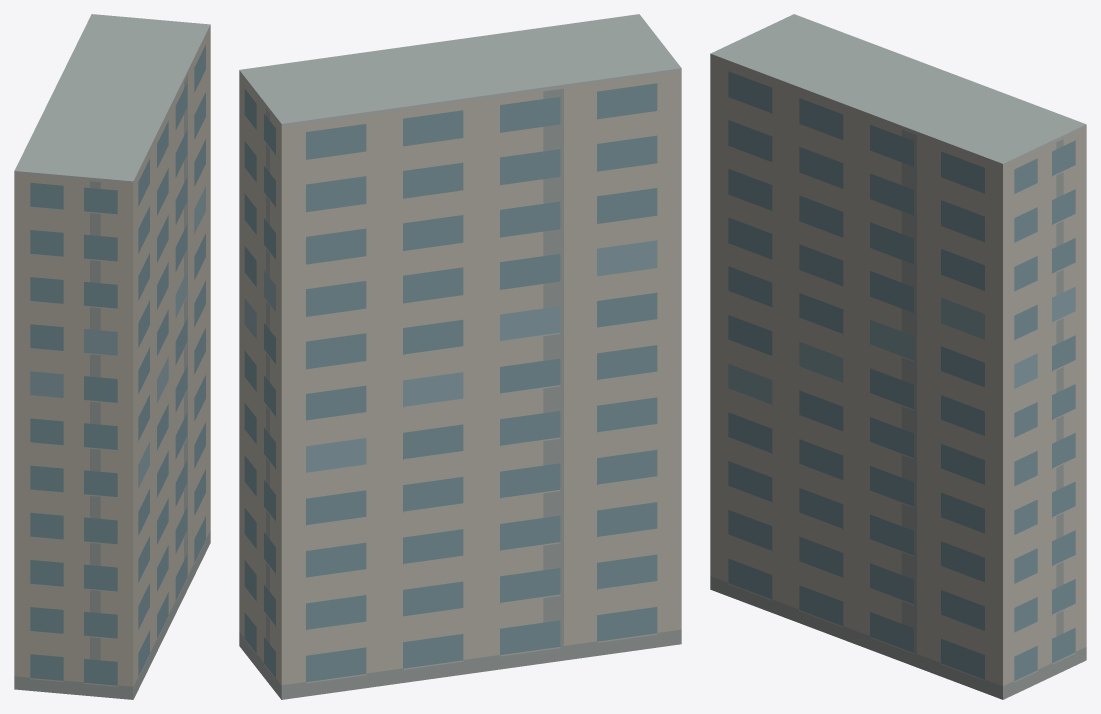
File: residential-0a81722e-b231-430f-b5d0-a304976cb5e9.glb
The picture shows the model from 3 angles, left to right: view 1: azimuth 30°, elevation 25°; view 2: azimuth 150°, elevation 25°; view 3: azimuth 270°, elevation 25°; orthographic projection. The views are drawn at different scales.
Parts seen in each view (by area): view 1: residential-0a81722e-b231-430f-b5d0-a304976cb5e9.tmp; view 2: residential-0a81722e-b231-430f-b5d0-a304976cb5e9.tmp; view 3: residential-0a81722e-b231-430f-b5d0-a304976cb5e9.tmp.
Part boxes in pixels (x1,y1,x2,y2): residential-0a81722e-b231-430f-b5d0-a304976cb5e9.tmp: [14, 14, 210, 699]; residential-0a81722e-b231-430f-b5d0-a304976cb5e9.tmp: [239, 14, 681, 699]; residential-0a81722e-b231-430f-b5d0-a304976cb5e9.tmp: [710, 14, 1086, 699].
Bounding box in the file's own units: 21.01 × 35 × 22.27.
